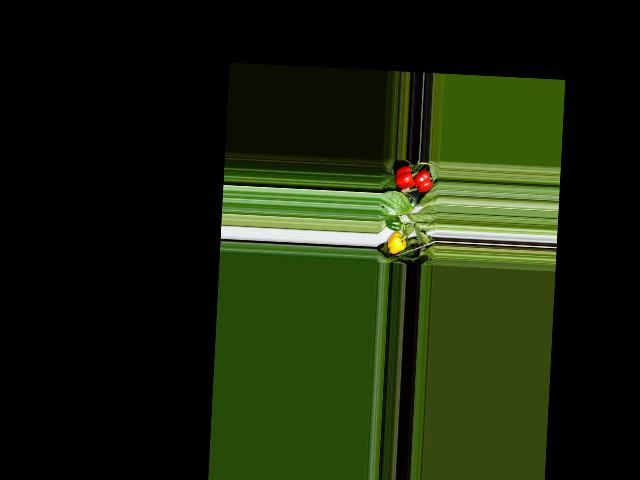bell_pepper: (385, 230, 407, 256)
